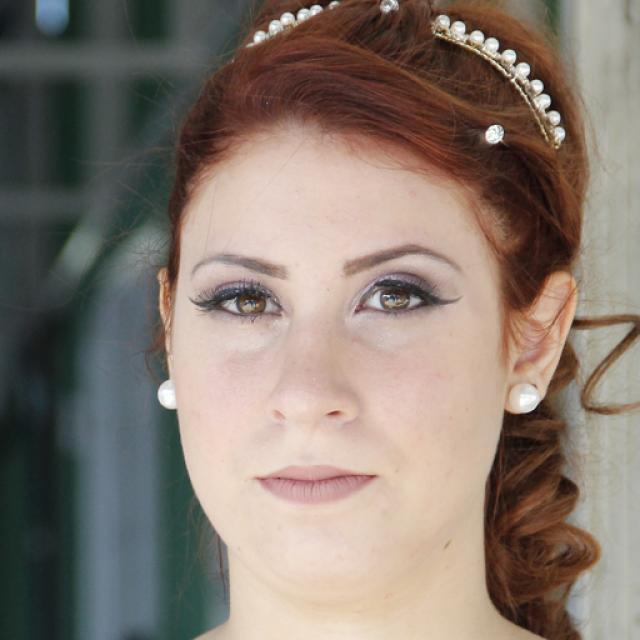Contempt: (173, 125, 507, 596)
